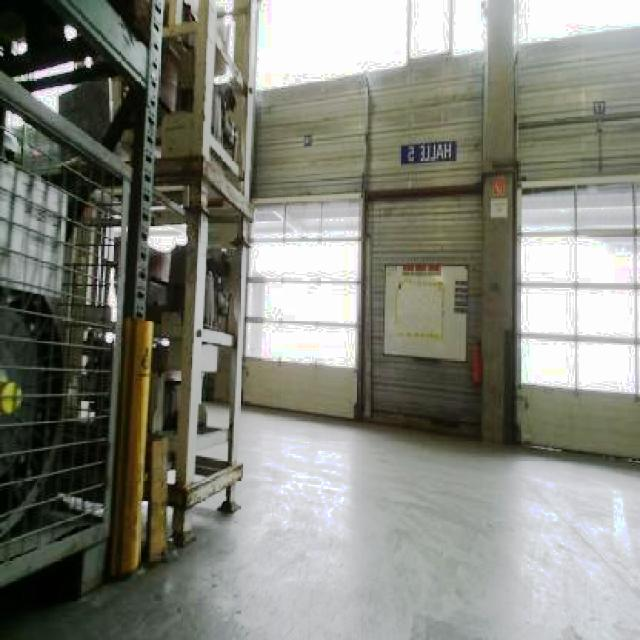ground: (0, 397, 638, 638)
pallet: (143, 0, 257, 549)
